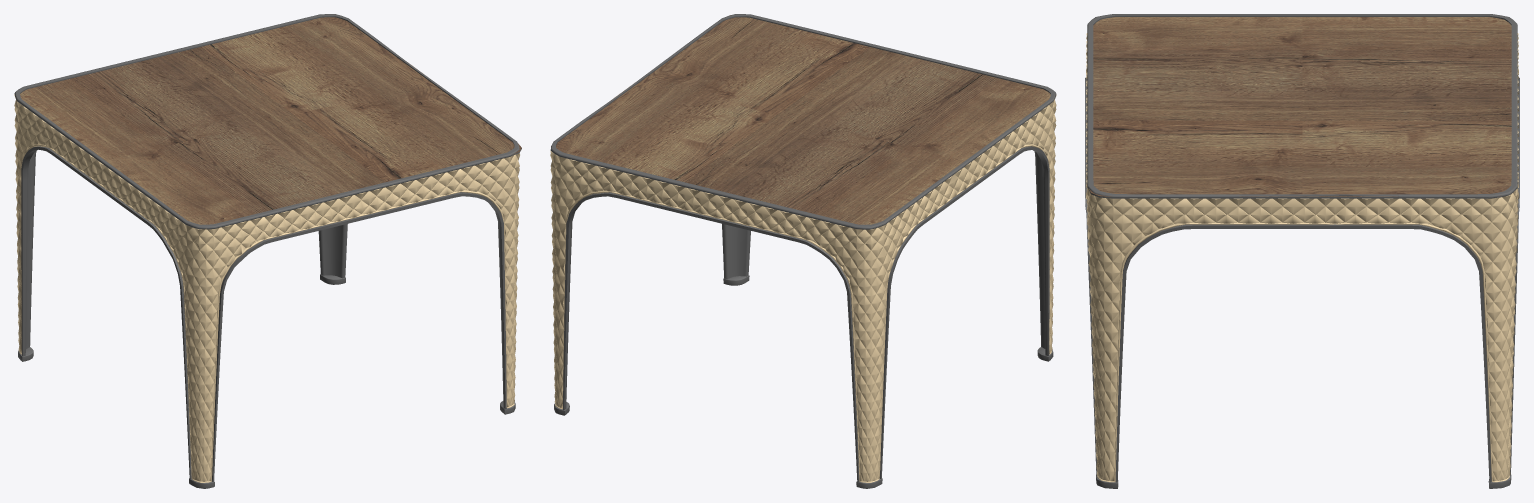
Rendered from 17sofa_w64_h88_d100_3.61MB.glb.
The picture shows the model from 3 angles, left to right: view 1: azimuth 30°, elevation 25°; view 2: azimuth 150°, elevation 25°; view 3: azimuth 270°, elevation 25°; orthographic projection. The views are drawn at different scales.
Visible parts, largest first — view 1: root; view 2: root; view 3: root.
Boxes of the visible parts, bbox=[...] form: root: bbox=[14, 14, 521, 488]; root: bbox=[550, 14, 1056, 488]; root: bbox=[1085, 14, 1519, 488].
Bounding box in the file's own units: 1 × 0.75 × 1.
4 materials, 1 textured.
